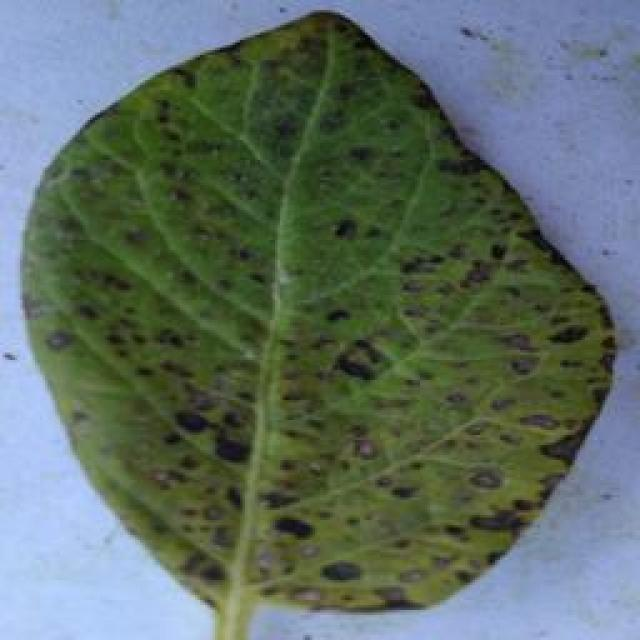Potato_Early_Blight: (3, 2, 633, 628), (452, 2, 640, 272)
